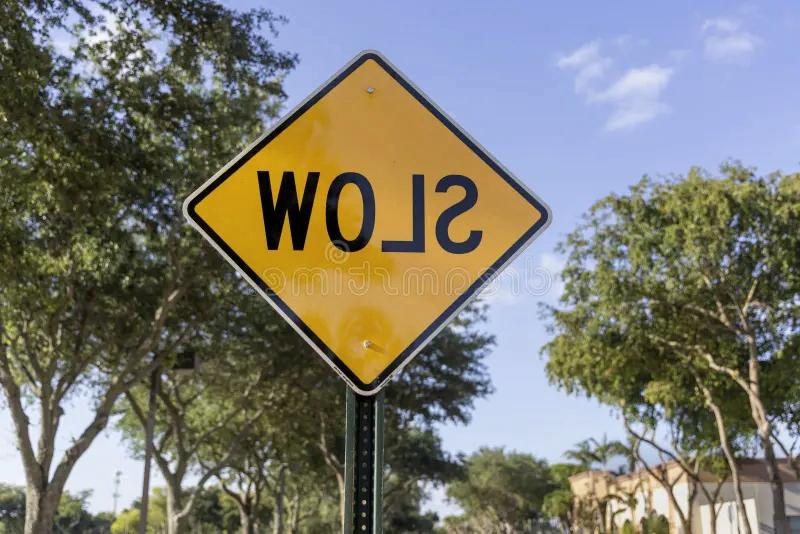Slow: (194, 59, 545, 384)
